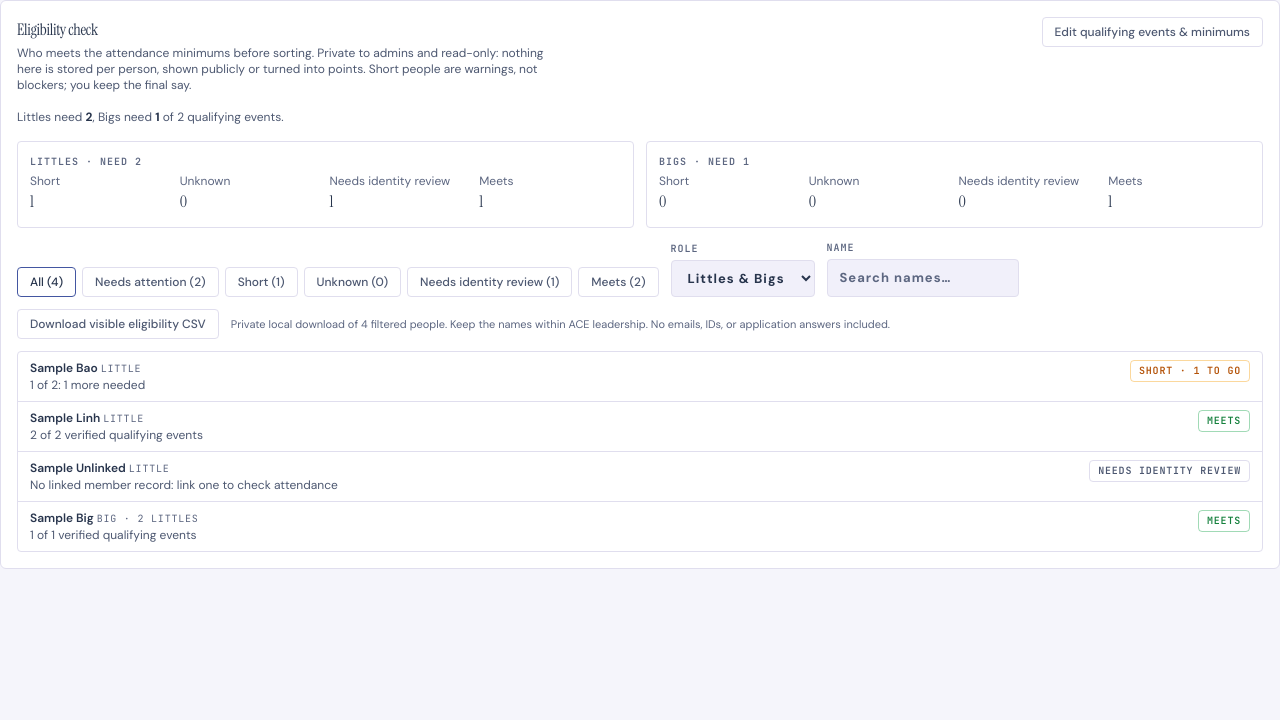
it: shows counts and filters people by status and name
This screenshot has width=1280, height=720.
Check: the number of list items is 4, box [18, 352, 1262, 401]; [18, 401, 1262, 451]; [18, 451, 1262, 501]; [18, 501, 1262, 551]
Click the button "Short (1)" at {"x": 261, "y": 282}, box [225, 267, 298, 297]
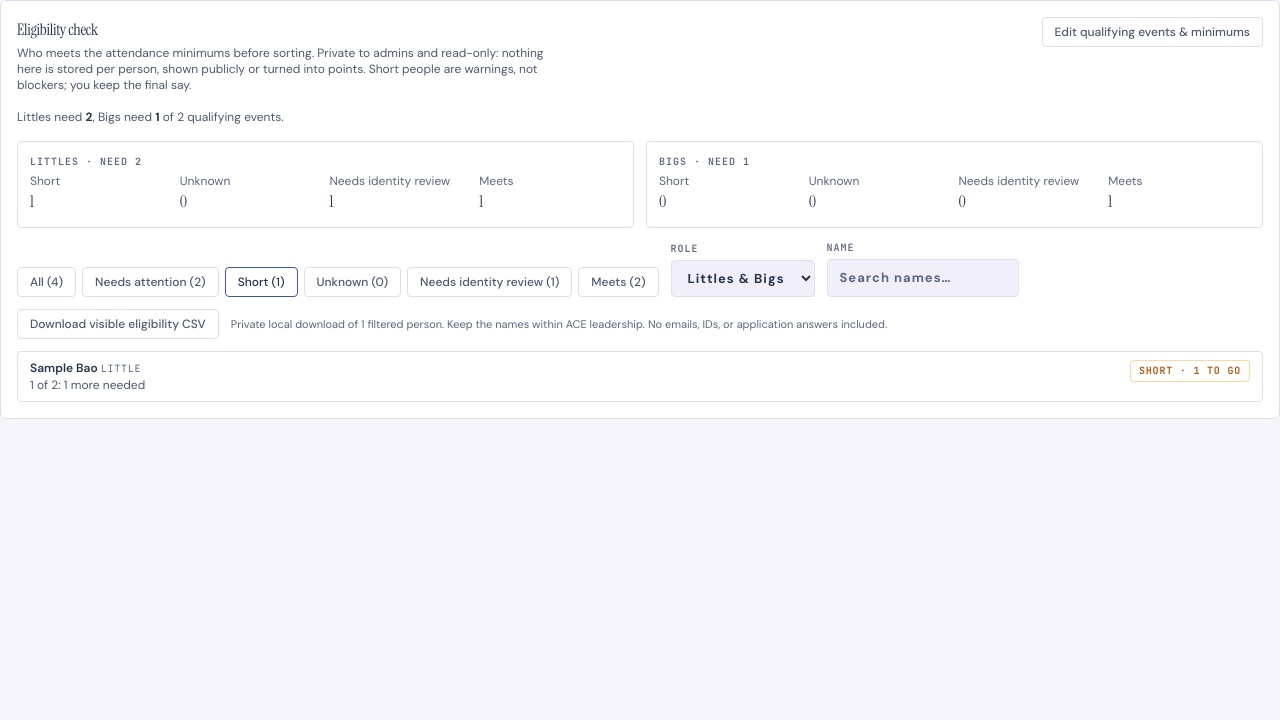
Check: the text "Sample Bao" is shown, box [30, 360, 98, 376]
Check: the number of list items is 1, box [18, 352, 1262, 401]
Click the button "All (4)" at {"x": 47, "y": 282}, box [17, 267, 76, 297]
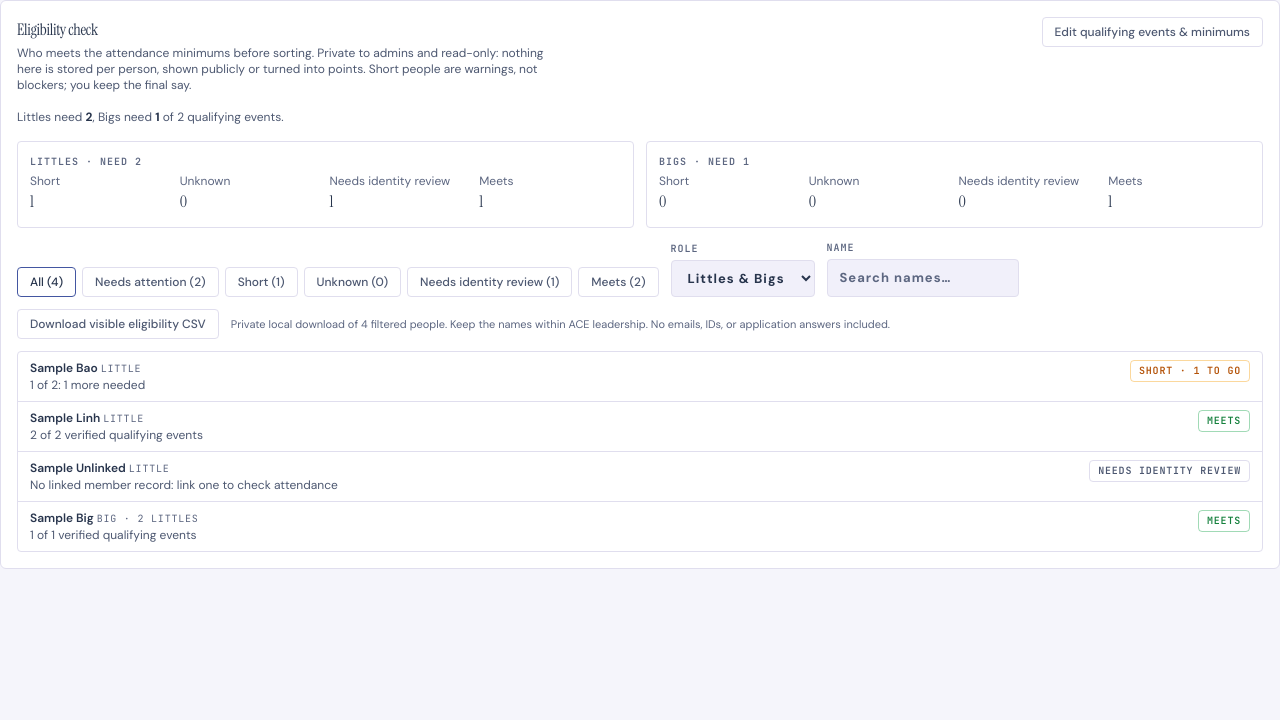
Type "big" into the search field with placeholder "Search names…" at {"x": 922, "y": 278}, box [826, 259, 1018, 297]
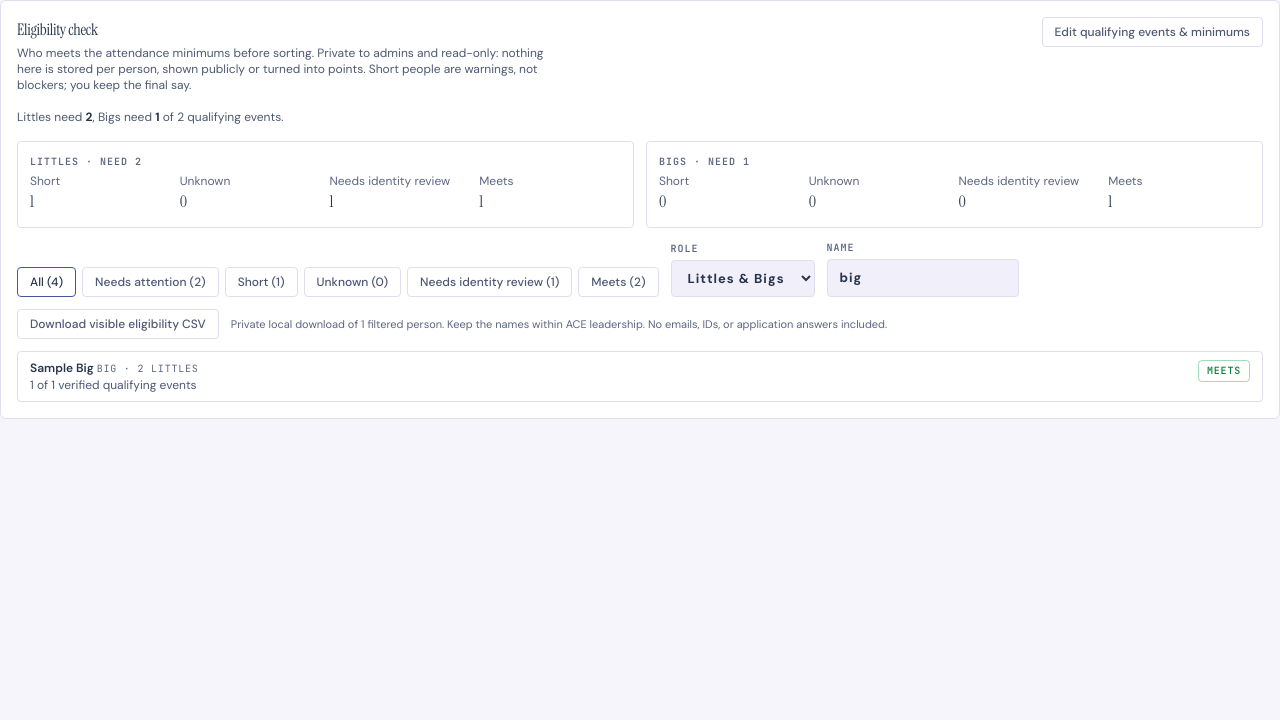
Check: the text "Sample Big" is shown, box [30, 360, 94, 376]
Check: the number of list items is 1, box [18, 352, 1262, 401]
